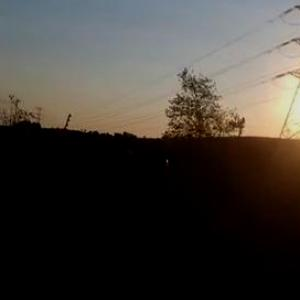follow: (121, 145, 182, 299)
